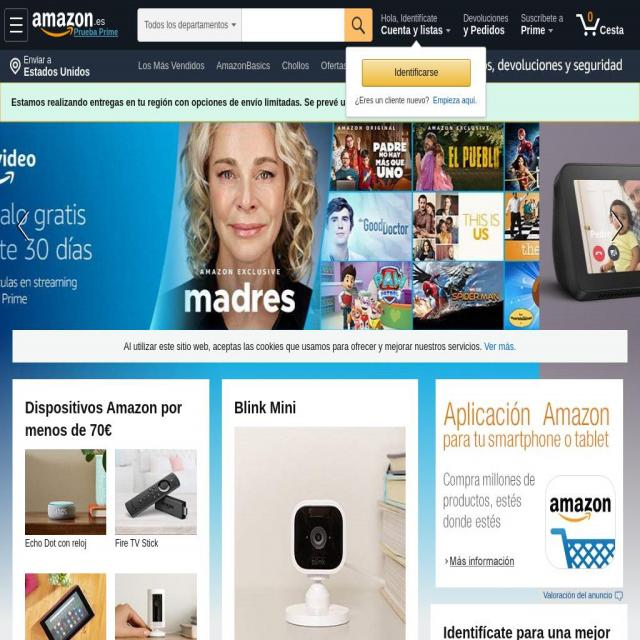content: (1, 118, 640, 365), (432, 380, 628, 638)
navigation-blocks: (12, 378, 418, 640)
navigation-links: (378, 10, 626, 42), (136, 52, 345, 80)
options: (4, 7, 30, 40)
search: (138, 8, 374, 45)
